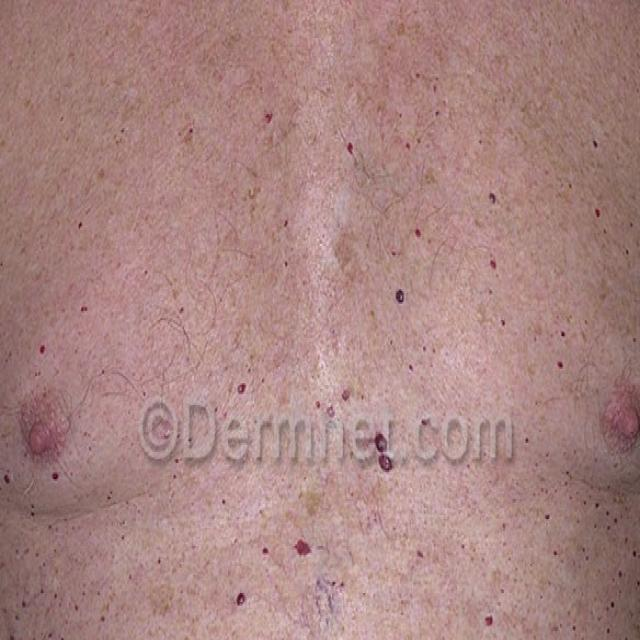Vascular Tumors: (246, 91, 370, 170), (470, 158, 514, 287), (353, 405, 400, 491), (286, 529, 322, 583), (474, 593, 509, 640), (226, 574, 261, 617), (390, 271, 409, 323)
